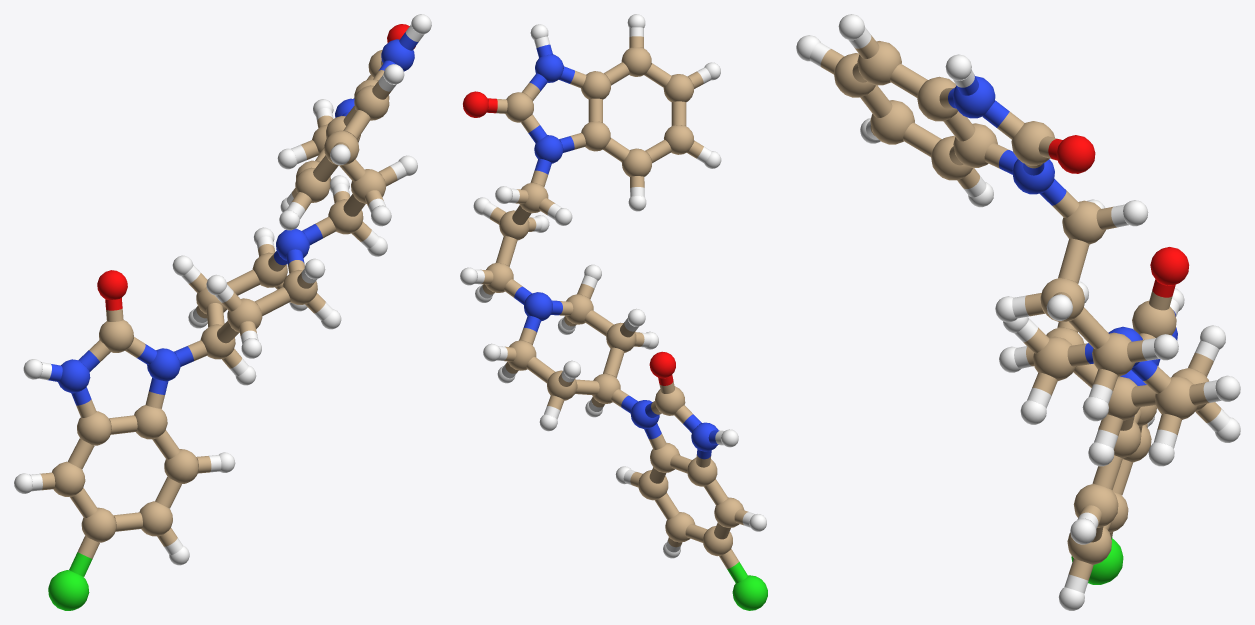
Rendered from Motilium._Domperidon.dae.
The picture shows the model from 3 angles, left to right: view 1: azimuth 30°, elevation 25°; view 2: azimuth 150°, elevation 25°; view 3: azimuth 270°, elevation 25°; orthographic projection. The views are drawn at different scales.
Visible parts, largest first — view 1: subnode_0, subnode_22, subnode_18, subnode_25, subnode_16, subnode_19, subnode_20, subnode_15, subnode_5, subnode_4, subnode_27, subnode_28 (+11 smaller); view 2: subnode_0, subnode_23, subnode_21, subnode_27, subnode_29, subnode_26, subnode_28, subnode_24, subnode_3, subnode_6, subnode_7, subnode_16 (+20 smaller); view 3: subnode_27, subnode_28, subnode_12, subnode_23, subnode_11, subnode_17, subnode_13, subnode_2, subnode_1, subnode_16, subnode_21, subnode_19 (+15 smaller).
Boxes of the visible parts, x1,y1,x2,y2 form: subnode_0: [48, 570, 89, 610]; subnode_22: [139, 501, 172, 536]; subnode_18: [77, 411, 111, 445]; subnode_25: [81, 507, 116, 542]; subnode_16: [99, 320, 133, 352]; subnode_19: [164, 449, 198, 483]; subnode_20: [52, 461, 85, 496]; subnode_15: [134, 405, 167, 439]; subnode_5: [58, 359, 90, 392]; subnode_4: [147, 348, 180, 381]; subnode_27: [354, 85, 389, 120]; subnode_28: [295, 167, 330, 202]; subnode_0: [732, 575, 767, 610]; subnode_23: [505, 92, 533, 122]; subnode_21: [581, 121, 610, 151]; subnode_27: [621, 47, 651, 76]; subnode_29: [663, 74, 693, 102]; subnode_26: [621, 148, 651, 176]; subnode_28: [664, 125, 693, 154]; subnode_24: [581, 71, 610, 99]; subnode_3: [524, 292, 552, 321]; subnode_6: [534, 135, 562, 163]; subnode_7: [535, 54, 563, 82]; subnode_16: [655, 386, 685, 415]; subnode_27: [857, 41, 901, 85]; subnode_28: [870, 100, 914, 144]; subnode_12: [1033, 336, 1076, 380]; subnode_23: [1011, 121, 1054, 165]; subnode_11: [1154, 376, 1198, 419]; subnode_17: [1062, 200, 1105, 244]; subnode_13: [1092, 332, 1135, 376]; subnode_2: [1056, 135, 1095, 173]; subnode_1: [1150, 247, 1189, 285]; subnode_16: [1132, 300, 1176, 337]; subnode_21: [953, 123, 997, 167]; subnode_19: [1073, 484, 1118, 527].
Size of the model in its own units: 10.32 by 14.81 by 8.39.
